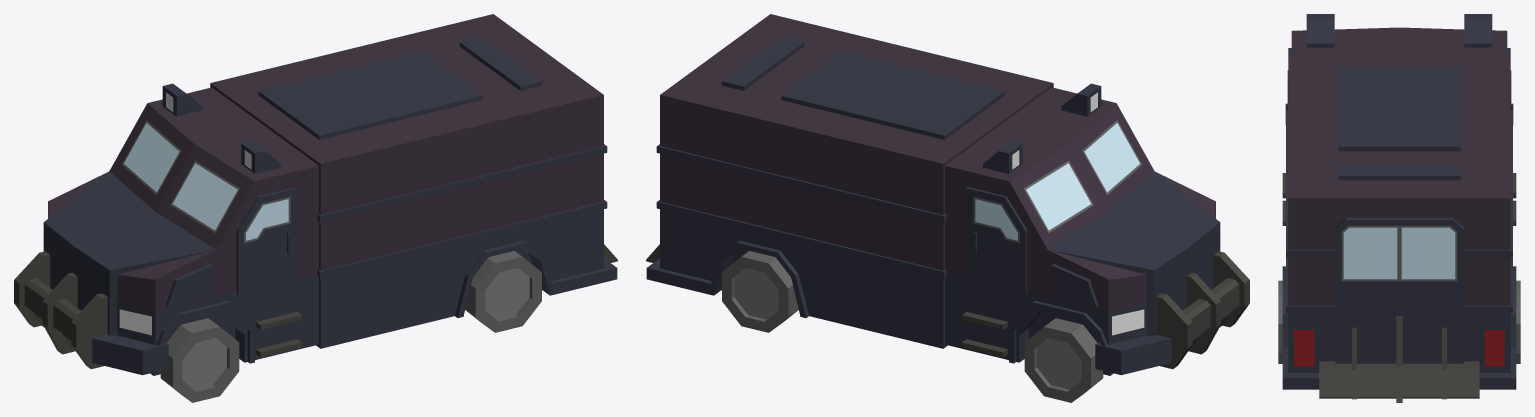
Rendered from Main_Truck_2.fbx.
The picture shows the model from 3 angles, left to right: view 1: azimuth 30°, elevation 25°; view 2: azimuth 150°, elevation 25°; view 3: azimuth 270°, elevation 25°; orthographic projection.
Parts seen in each view (by area): view 1: Main_Truck_2; view 2: Main_Truck_2; view 3: Main_Truck_2.
Part boxes in pixels (x1,y1,x2,y2): Main_Truck_2: [14, 14, 617, 402]; Main_Truck_2: [646, 14, 1249, 402]; Main_Truck_2: [1278, 14, 1520, 402].
Size of the model in its own units: 10.11 by 3.98 by 3.87.
1 material, 1 textured.
